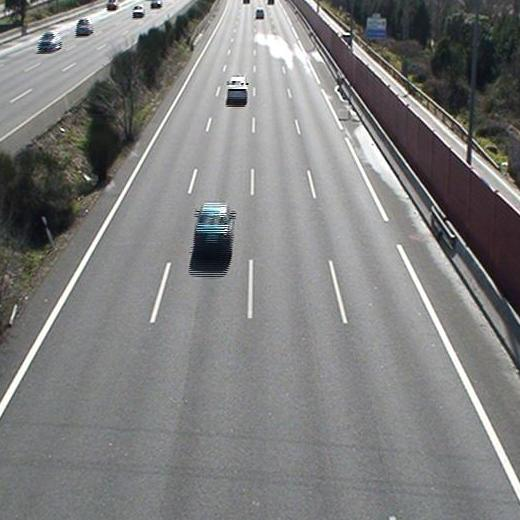car: (193, 202, 234, 253), (225, 75, 250, 105)
